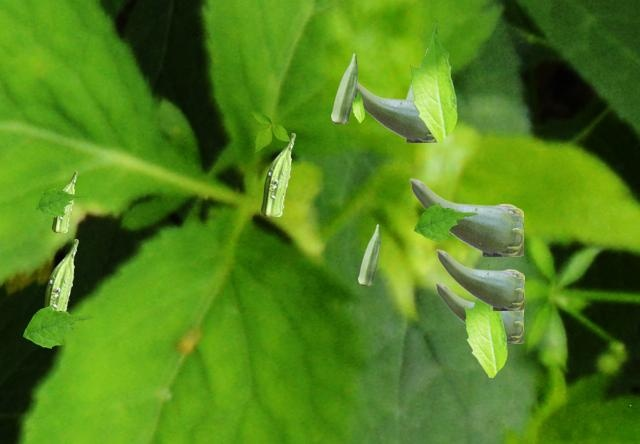okra: (409, 178, 522, 255), (435, 282, 522, 342), (436, 249, 523, 309), (355, 81, 434, 141), (261, 133, 294, 215), (43, 239, 77, 310), (331, 53, 356, 122), (52, 171, 76, 231), (358, 224, 379, 284), (405, 49, 426, 98)
